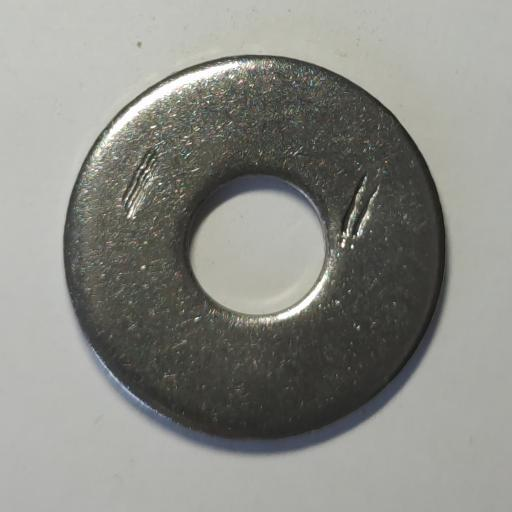scratch: (341, 171, 379, 250), (122, 148, 156, 220)
